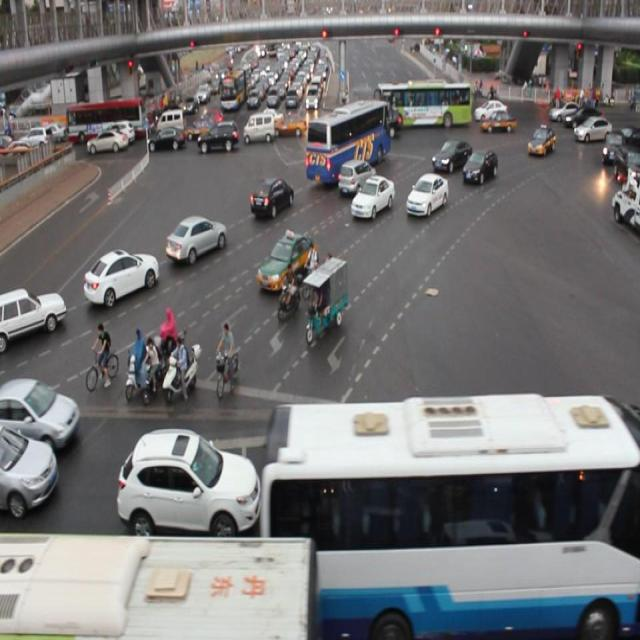car: (116, 426, 259, 534), (396, 423, 518, 538), (0, 374, 80, 452), (1, 421, 58, 518), (84, 246, 161, 310), (1, 279, 65, 352), (256, 232, 318, 296), (165, 214, 228, 262), (404, 171, 448, 219), (249, 173, 295, 218), (351, 176, 396, 219), (432, 137, 469, 172), (462, 149, 497, 183), (338, 158, 372, 193), (526, 122, 553, 157)
van: (267, 390, 640, 632), (1, 526, 316, 640), (306, 100, 391, 179)
